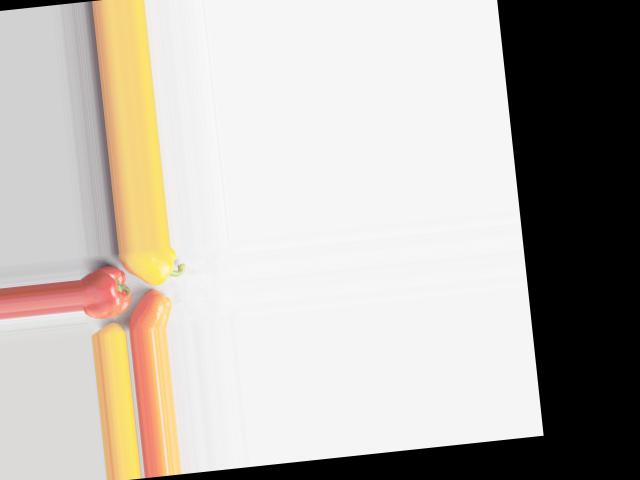bell_pepper: (79, 261, 134, 321)
